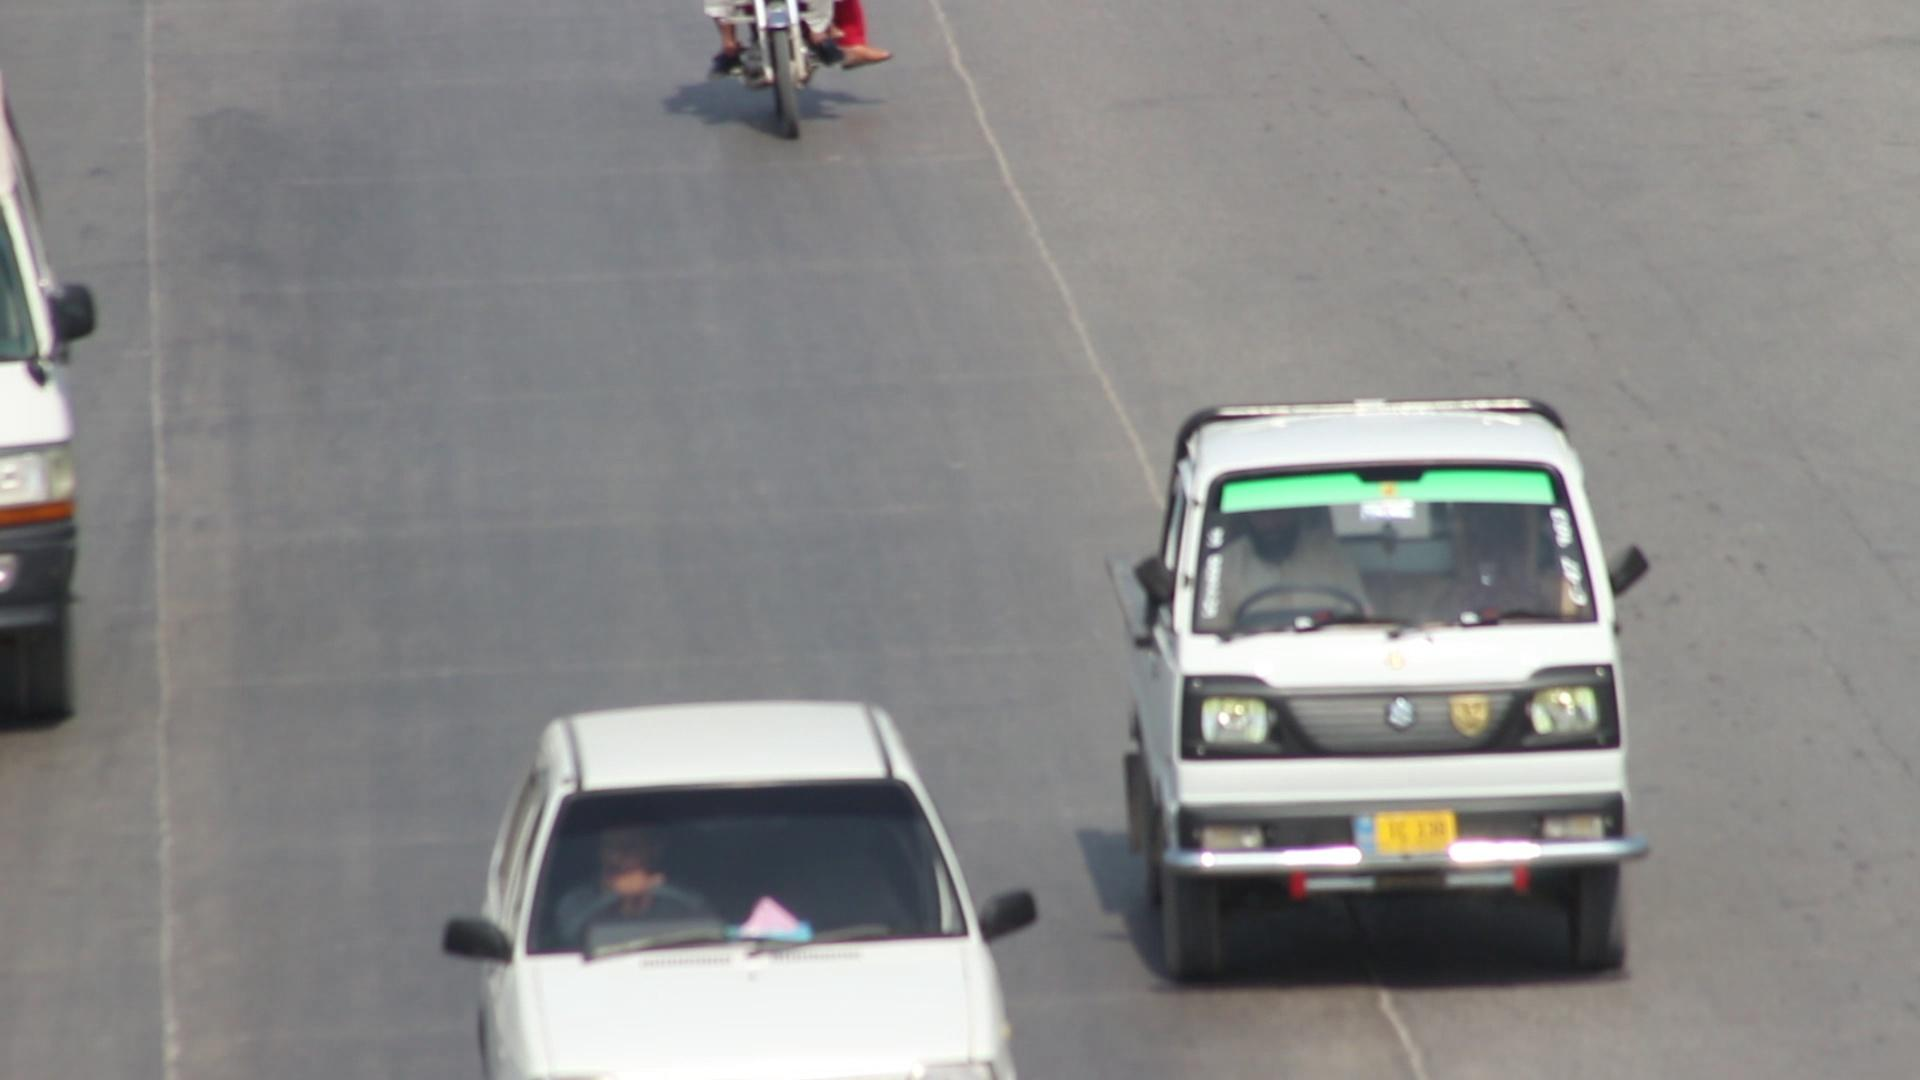windshield: (521, 766, 988, 980), (1178, 447, 1621, 659), (1178, 454, 1607, 650)
